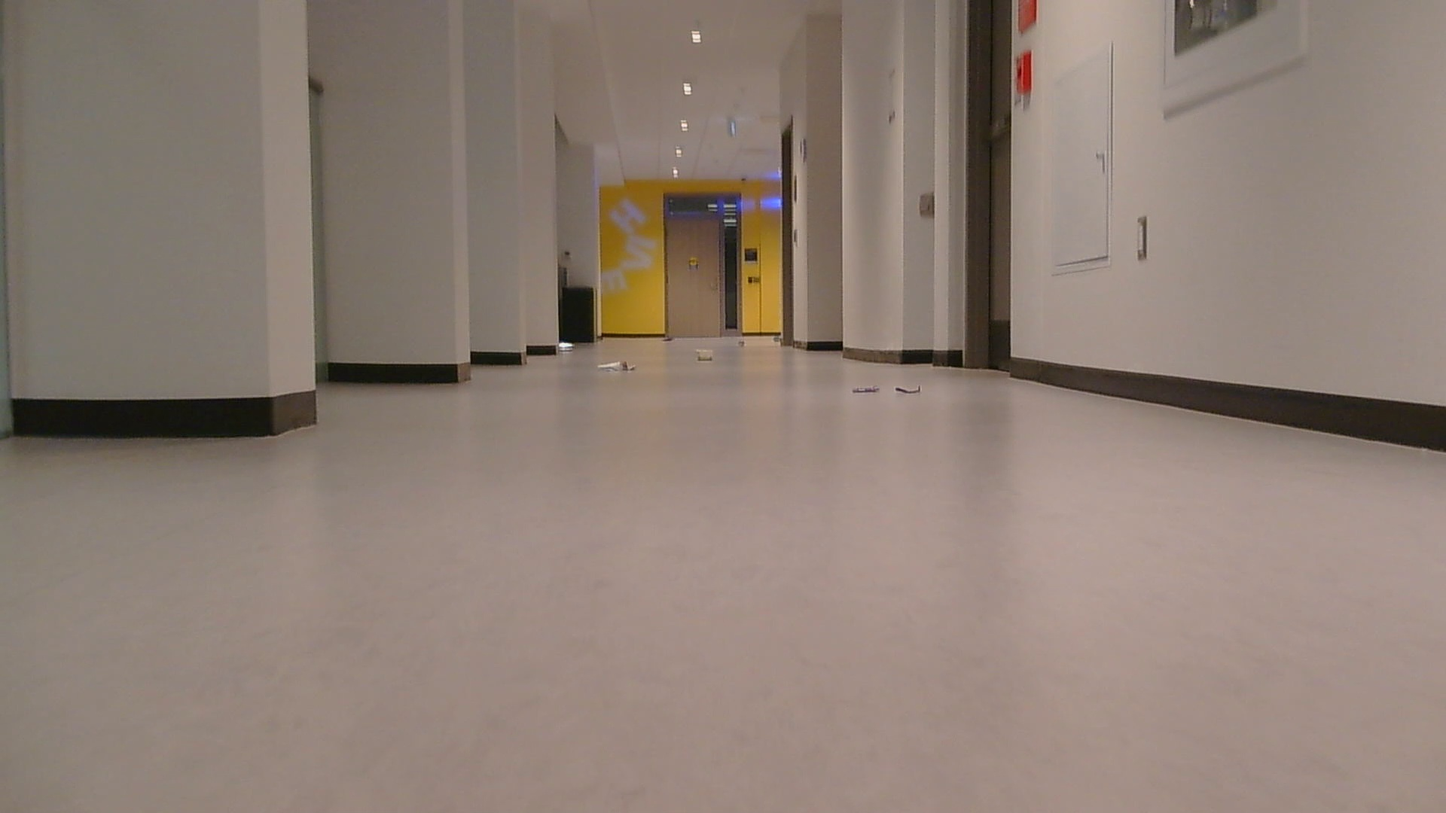carton: (581, 343, 637, 374), (851, 375, 929, 396), (685, 345, 721, 366), (762, 330, 782, 343), (740, 336, 751, 350), (559, 340, 569, 348)
